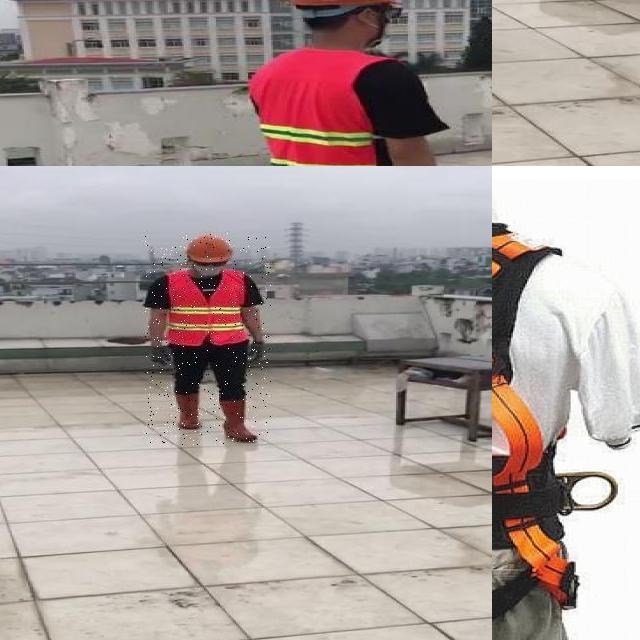Harness: (492, 224, 575, 602)
boots: (220, 397, 258, 441), (172, 392, 202, 430)
head_helmet: (184, 234, 234, 264), (284, 0, 403, 10)
person: (240, 0, 459, 166), (146, 234, 272, 445), (492, 0, 550, 95)
vest: (253, 46, 393, 166), (165, 270, 248, 346)
